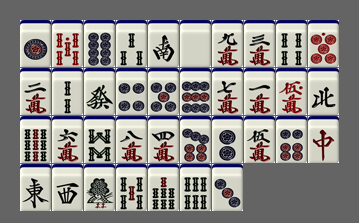0m: (276, 68, 307, 115)
0p: (308, 20, 339, 67)
0s: (52, 20, 83, 67)
1m: (244, 68, 275, 115)
1p: (20, 20, 51, 67)
1s: (84, 164, 115, 211)
1z: (20, 164, 51, 211)
2m: (20, 68, 51, 115)
2p: (212, 116, 243, 163)
2s: (52, 68, 83, 115)
2z: (148, 20, 179, 67)
3m: (244, 20, 275, 67)
3p: (212, 164, 243, 211)
3s: (116, 20, 147, 67)
3z: (52, 164, 83, 211)
4m: (148, 116, 179, 163)
4p: (116, 68, 147, 115)
4s: (276, 20, 307, 67)
4z: (308, 68, 339, 115)
5m: (244, 116, 275, 163)
5p: (148, 68, 179, 115)
5s: (116, 164, 147, 211)
5z: (180, 20, 211, 67)
6m: (52, 116, 83, 163)
6p: (276, 116, 307, 163)
6s: (180, 164, 211, 211)
6z: (84, 68, 115, 115)
7m: (212, 68, 243, 115)
7p: (180, 116, 211, 163)
7s: (148, 164, 179, 211)
7z: (308, 116, 339, 163)
8m: (116, 116, 147, 163)
8p: (84, 20, 115, 67)
8s: (84, 116, 115, 163)
9m: (212, 20, 243, 67)
9p: (180, 68, 211, 115)
9s: (20, 116, 51, 163)
